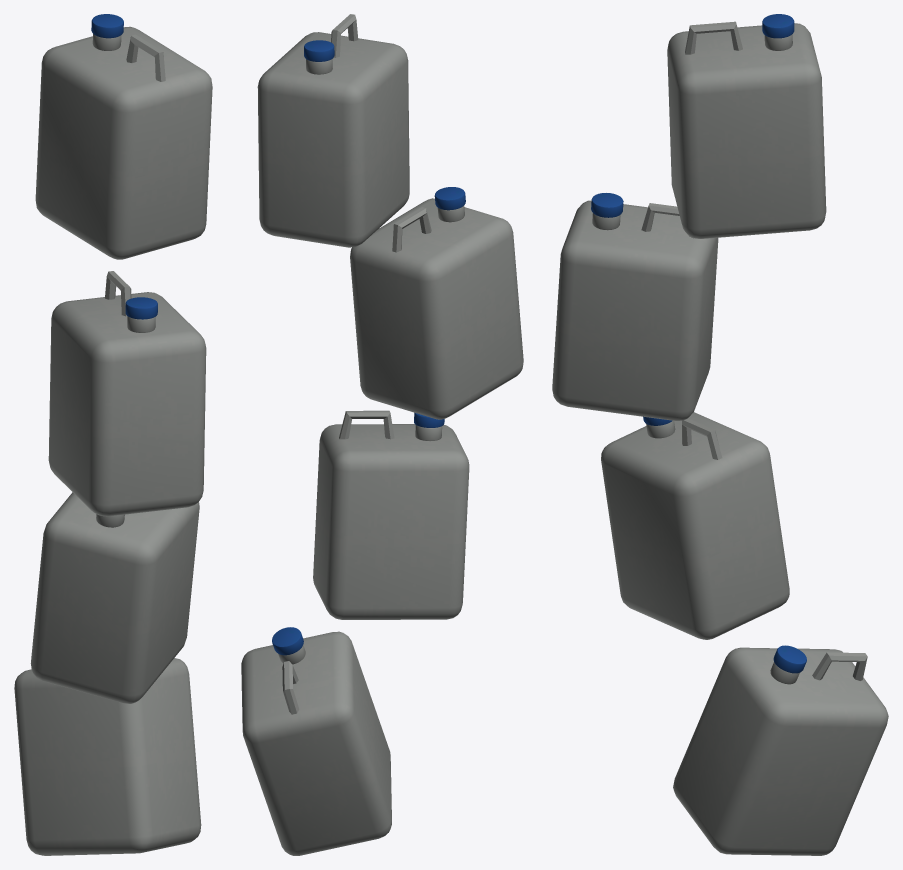
The model's file is EST-ADT-002_anim.glb.
3 renders of one model, left to right at view 1: azimuth 30°, elevation 25°; view 2: azimuth 150°, elevation 25°; view 3: azimuth 270°, elevation 25°, orthographic. The views are drawn at different scales.
Parts seen in each view (by area): view 1: EST-ADT-002_anim3, EST-ADT-002_anim2, EST-ADT-002_anim0, EST-ADT-002_anim1; view 2: EST-ADT-002_anim2, EST-ADT-002_anim1, EST-ADT-002_anim3, EST-ADT-002_anim0; view 3: EST-ADT-002_anim0, EST-ADT-002_anim1, EST-ADT-002_anim3, EST-ADT-002_anim2.
Boxes of the visible parts, x1=… form: EST-ADT-002_anim3: x1=35, y1=14, x2=212, y2=259; EST-ADT-002_anim2: x1=48, y1=271, x2=206, y2=516; EST-ADT-002_anim0: x1=14, y1=658, x2=201, y2=855; EST-ADT-002_anim1: x1=30, y1=492, x2=199, y2=703; EST-ADT-002_anim2: x1=350, y1=187, x2=523, y2=419; EST-ADT-002_anim1: x1=313, y1=410, x2=469, y2=619; EST-ADT-002_anim3: x1=257, y1=14, x2=409, y2=247; EST-ADT-002_anim0: x1=241, y1=627, x2=391, y2=855; EST-ADT-002_anim0: x1=673, y1=645, x2=888, y2=855; EST-ADT-002_anim1: x1=601, y1=412, x2=789, y2=639; EST-ADT-002_anim3: x1=667, y1=14, x2=826, y2=238; EST-ADT-002_anim2: x1=552, y1=193, x2=718, y2=420.
Bounding box in the file's own units: 0.4445 × 1.83 × 0.6693.
Materials: 2 (2 with a texture image).
